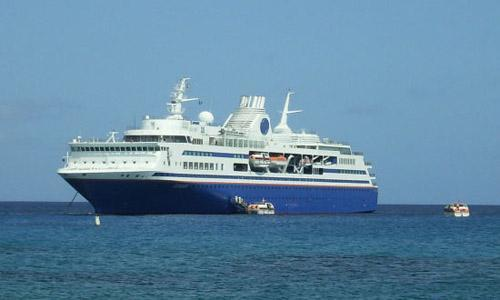otherboat: (244, 199, 277, 218), (441, 200, 473, 219)
youlun: (55, 75, 382, 218)
